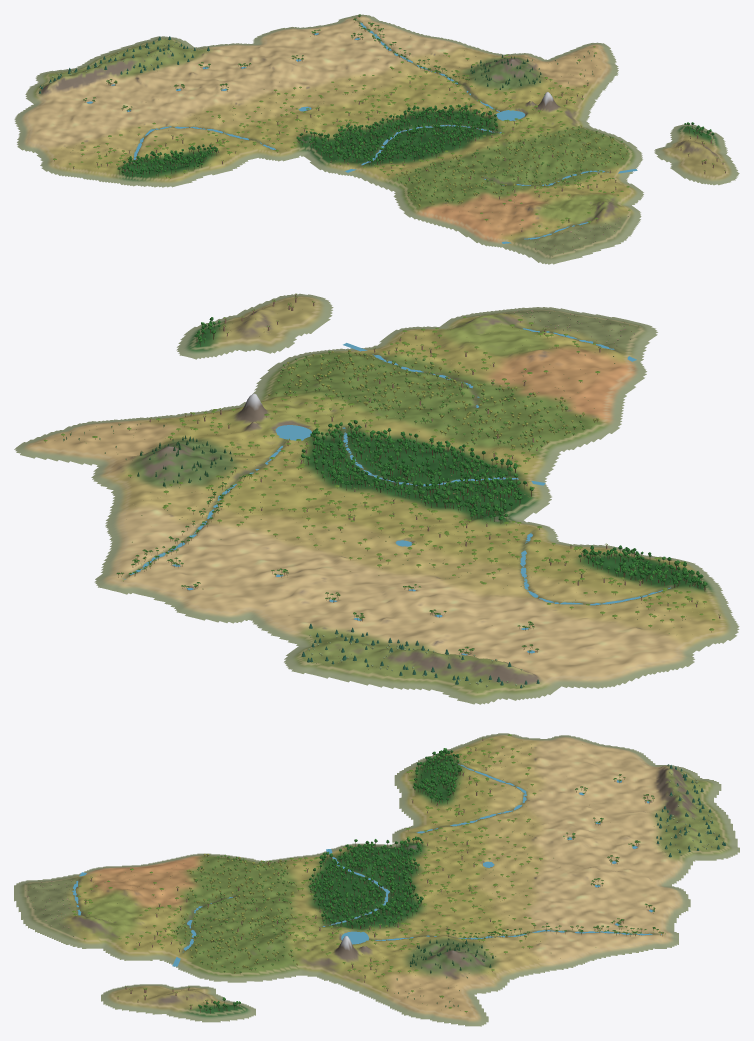
File: africa_3d.glb
The picture shows the model from 3 angles, top to bottom: view 1: azimuth 30°, elevation 25°; view 2: azimuth 150°, elevation 25°; view 3: azimuth 270°, elevation 25°; orthographic projection. The views are drawn at different scales.
Visible parts, largest first — view 1: Vegetacion, Terreno_5_3-col, Terreno_1_2-col, Terreno_1_1-col, Terreno_1_3-col, Terreno_2_4-col, Terreno_4_3-col, Terreno_2_2-col, Terreno_2_3-col, Terreno_1_0-col, Terreno_3_3-col, Terreno_3_4-col (+18 smaller); view 2: Vegetacion, Terreno_1_1-col, Terreno_2_4-col, Terreno_1_2-col, Terreno_1_3-col, Terreno_4_3-col, Terreno_1_0-col, Terreno_2_3-col, Terreno_3_3-col, Terreno_0_1-col, Terreno_2_2-col, Terreno_3_4-col (+17 smaller); view 3: Vegetacion, Terreno_3_4-col, Terreno_1_3-col, Terreno_1_2-col, Terreno_1_1-col, Terreno_4_3-col, Terreno_2_4-col, Terreno_4_4-col, Terreno_2_3-col, Terreno_2_5-col, Terreno_1_4-col, Terreno_5_3-col (+18 smaller).
Part boxes in pixels (x1=…): Vegetacion: x1=38, y1=14, x2=725, y2=256; Terreno_5_3-col: x1=490, y1=197, x2=627, y2=264; Terreno_1_2-col: x1=172, y1=57, x2=320, y2=121; Terreno_1_1-col: x1=79, y1=81, x2=227, y2=146; Terreno_1_3-col: x1=266, y1=36, x2=413, y2=99; Terreno_2_4-col: x1=415, y1=56, x2=561, y2=115; Terreno_4_3-col: x1=435, y1=155, x2=582, y2=220; Terreno_2_2-col: x1=228, y1=99, x2=376, y2=161; Terreno_2_3-col: x1=322, y1=77, x2=468, y2=140; Terreno_1_0-col: x1=16, y1=104, x2=134, y2=170; Terreno_3_3-col: x1=379, y1=115, x2=526, y2=180; Terreno_3_4-col: x1=471, y1=92, x2=619, y2=155; Vegetacion: x1=43, y1=293, x2=720, y2=688; Terreno_1_1-col: x1=418, y1=570, x2=616, y2=656; Terreno_2_4-col: x1=119, y1=424, x2=317, y2=511; Terreno_1_2-col: x1=293, y1=541, x2=491, y2=625; Terreno_1_3-col: x1=169, y1=512, x2=367, y2=593; Terreno_4_3-col: x1=394, y1=342, x2=592, y2=428; Terreno_1_0-col: x1=542, y1=604, x2=735, y2=682; Terreno_2_3-col: x1=244, y1=454, x2=441, y2=541; Terreno_3_3-col: x1=320, y1=395, x2=517, y2=487; Terreno_0_1-col: x1=350, y1=626, x2=541, y2=704; Terreno_2_2-col: x1=368, y1=489, x2=554, y2=570; Terreno_3_4-col: x1=194, y1=373, x2=393, y2=452; Vegetacion: x1=26, y1=734, x2=726, y2=1013; Terreno_3_4-col: x1=253, y1=920, x2=378, y2=979; Terreno_1_3-col: x1=500, y1=870, x2=622, y2=926; Terreno_1_2-col: x1=500, y1=824, x2=622, y2=877; Terreno_1_1-col: x1=500, y1=775, x2=622, y2=826; Terreno_4_3-col: x1=131, y1=872, x2=253, y2=926; Terreno_2_4-col: x1=378, y1=923, x2=500, y2=977; Terreno_4_4-col: x1=131, y1=921, x2=253, y2=979; Terreno_2_3-col: x1=378, y1=875, x2=500, y2=926; Terreno_2_5-col: x1=378, y1=969, x2=500, y2=1026; Terreno_1_4-col: x1=500, y1=923, x2=622, y2=979; Terreno_5_3-col: x1=14, y1=873, x2=131, y2=929.
Size of what is drawn, in the model's own units: 1239 by 54.15 by 1298.
